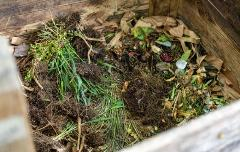organic: (94, 72, 136, 148), (47, 22, 89, 96)
